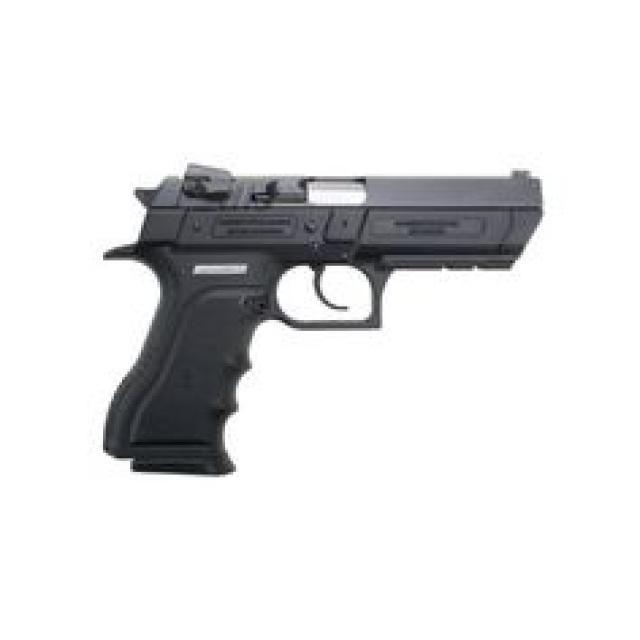semi automatic: (84, 140, 576, 518)
